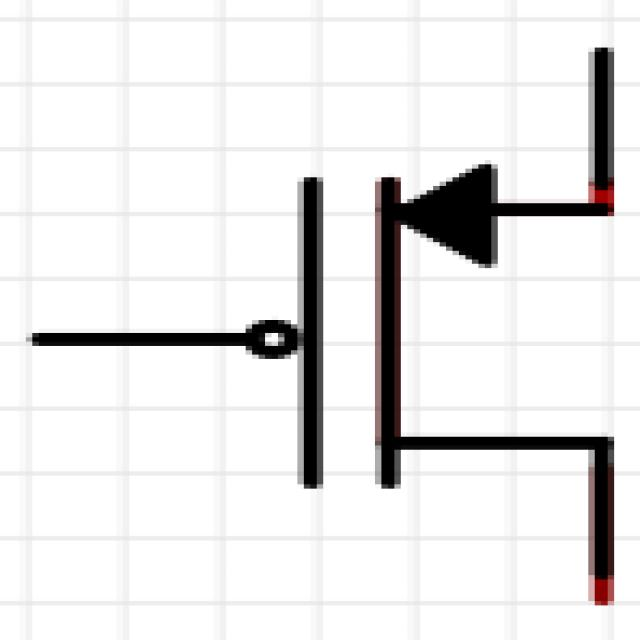pmos: (10, 54, 640, 547)
